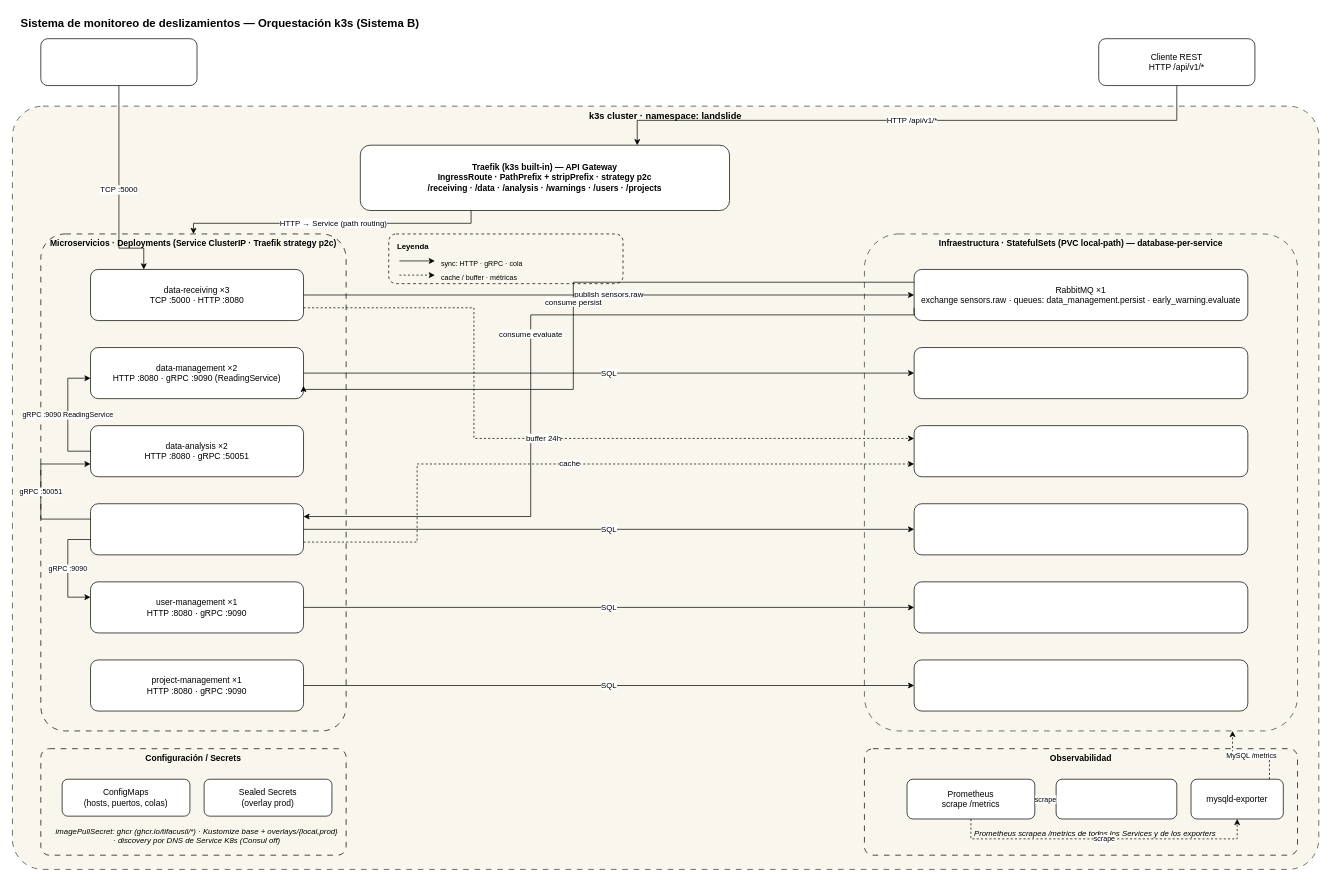
Image size: 1331x882. Some labels were removed from this diagram. Here are the shapes that lost their labels. From the top down, the centre of each, then its label:
the point at 118,62: Sensores DTU (nivel de agua)
the point at 1080,373: mysql-data-management db: data_management
the point at 1080,451: Redis ×1 buffer lecturas 24h · AOF · maxmemory 128mb LRU
the point at 197,529: early-warning ×2 HTTP :8080
the point at 1080,529: mysql-early-warning db: early_warning
the point at 1080,607: mysql-user-management db: user_management
the point at 1080,685: mysql-project-management db: project_management
the point at 1116,799: node-exporter (DaemonSet)
